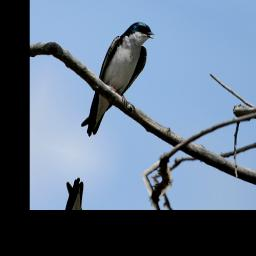Swallow: (79, 13, 158, 148)
